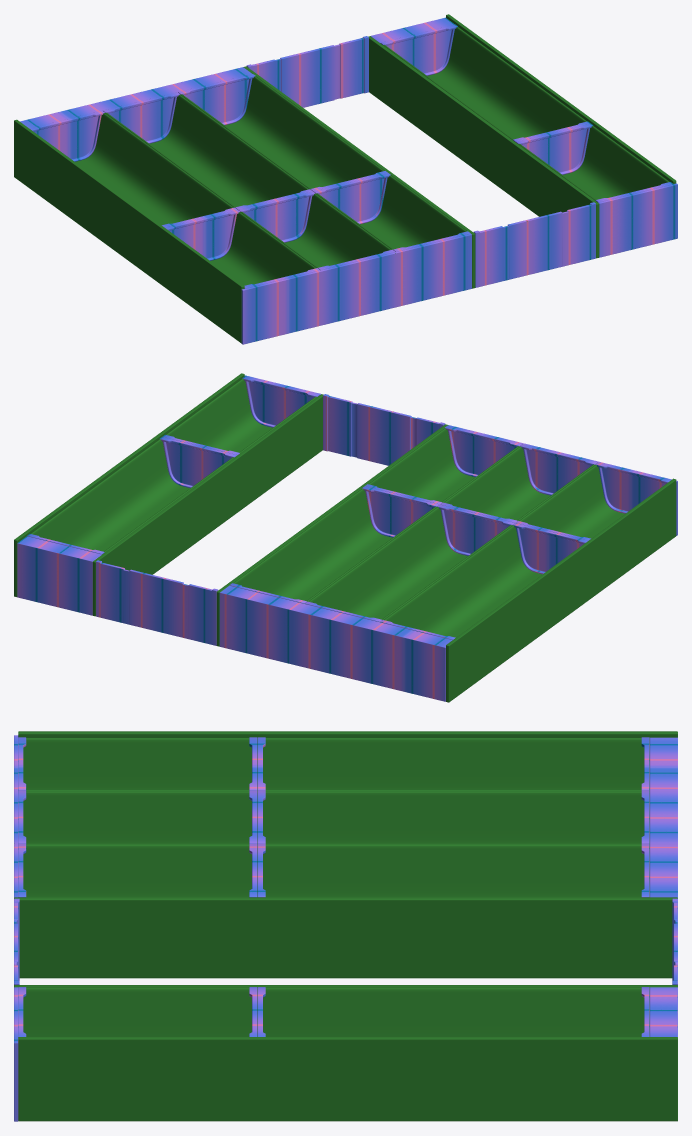
Rendered from SM_Drawer_Divider_09.fbx.
3 views of the same model, one above another, from view 1: azimuth 30°, elevation 25°; view 2: azimuth 150°, elevation 25°; view 3: azimuth 270°, elevation 25° (orthographic). The views are drawn at different scales.
Visible parts, largest first — view 1: SM_Drawer_Divider_09; view 2: SM_Drawer_Divider_09; view 3: SM_Drawer_Divider_09.
Part boxes in pixels (x1,y1,x2,y2): SM_Drawer_Divider_09: (14, 14, 677, 344); SM_Drawer_Divider_09: (14, 373, 677, 702); SM_Drawer_Divider_09: (14, 731, 677, 1121).
Bounding box in the file's own units: 51.99 × 6.5 × 47.4.
Materials: 2 (1 with a texture image).
